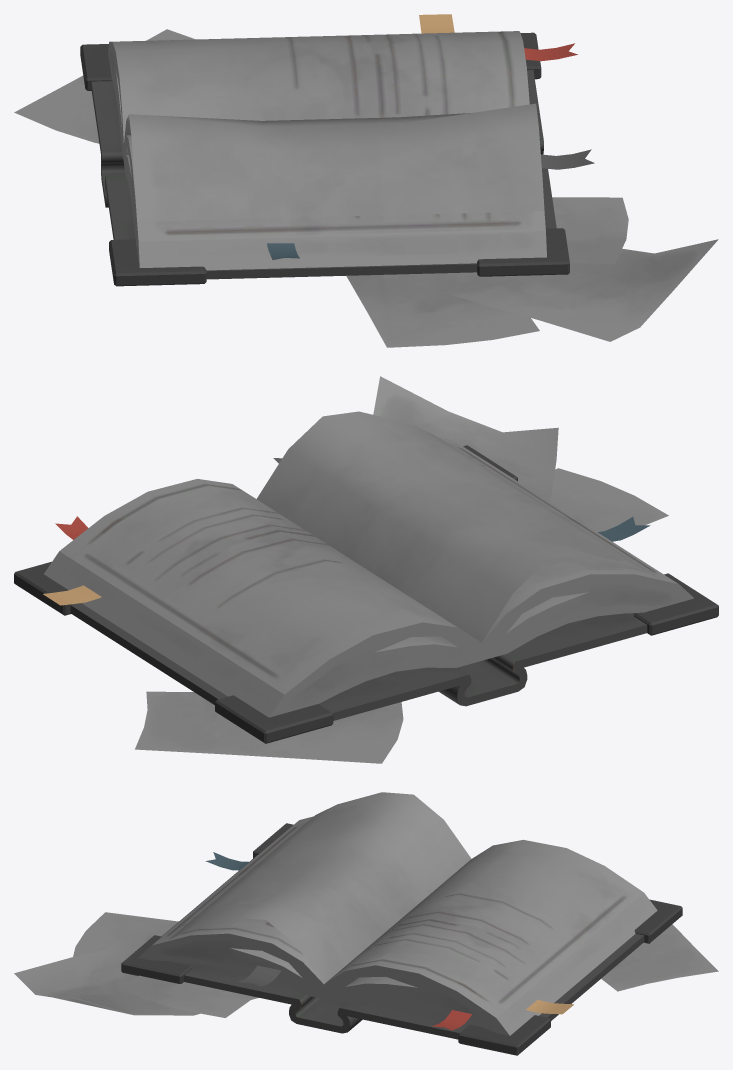
File: HoD_LogBook.fbx
The picture shows the model from 3 angles, top to bottom: view 1: azimuth 30°, elevation 25°; view 2: azimuth 150°, elevation 25°; view 3: azimuth 270°, elevation 25°; orthographic projection. The views are drawn at different scales.
Parts seen in each view (by area): view 1: pagesBlock1, bookPage, paperPage1, paperPage2, bookBase, paperPage3, paperPage, bookMetalParts3, bookMetalParts2, bookMetalParts, markers2, markers (+1 smaller); view 2: pagesBlock1, bookPage, bookBase, paperPage, paperPage1, paperPage2, bookMetalParts, bookMetalParts3, bookMetalParts1, markers; view 3: pagesBlock1, bookPage, bookBase, paperPage1, paperPage, paperPage3, paperPage2, bookMetalParts1, bookMetalParts2, bookMetalParts, markers2, markers.
Boxes of the visible parts, left/top/right/bottom form: pagesBlock1: left=108, top=31, right=546, bottom=270; bookPage: left=124, top=103, right=544, bottom=221; paperPage1: left=397, top=239, right=718, bottom=341; paperPage2: left=346, top=274, right=539, bottom=347; bookBase: left=91, top=70, right=556, bottom=279; paperPage3: left=552, top=197, right=628, bottom=264; paperPage: left=14, top=29, right=195, bottom=143; bookMetalParts3: left=109, top=239, right=206, bottom=286; bookMetalParts2: left=477, top=228, right=569, bottom=276; bookMetalParts: left=80, top=44, right=112, bottom=90; markers2: left=541, top=149, right=594, bottom=169; markers: left=419, top=14, right=454, bottom=33; pagesBlock1: left=44, top=437, right=694, bottom=717; bookPage: left=257, top=411, right=659, bottom=642; bookBase: left=70, top=603, right=647, bottom=720; paperPage: left=135, top=691, right=403, bottom=763; paperPage1: left=373, top=376, right=558, bottom=501; paperPage2: left=550, top=468, right=668, bottom=532; bookMetalParts: left=215, top=695, right=333, bottom=743; bookMetalParts3: left=634, top=573, right=718, bottom=635; bookMetalParts1: left=14, top=561, right=73, bottom=615; markers: left=43, top=585, right=101, bottom=605; pagesBlock1: left=138, top=816, right=657, bottom=1035; bookPage: left=169, top=792, right=471, bottom=983; bookBase: left=161, top=854, right=644, bottom=1039; paperPage1: left=14, top=941, right=258, bottom=1015; paperPage: left=601, top=924, right=718, bottom=991; paperPage3: left=118, top=975, right=254, bottom=1017; paperPage2: left=73, top=912, right=178, bottom=956; bookMetalParts1: left=458, top=1015, right=550, bottom=1055; bookMetalParts2: left=121, top=935, right=191, bottom=983; bookMetalParts: left=634, top=899, right=682, bottom=943; markers2: left=237, top=965, right=281, bottom=986; markers: left=526, top=999, right=573, bottom=1014.
Size of the model in its own units: 3.11 by 0.5969 by 4.15.
2 materials, 2 textured.
